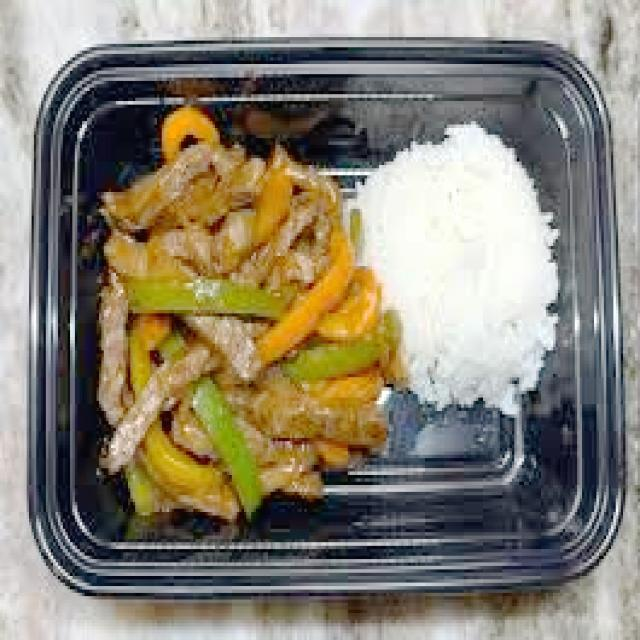Beijing Beef: (97, 114, 377, 522)
rice: (356, 125, 555, 415)
